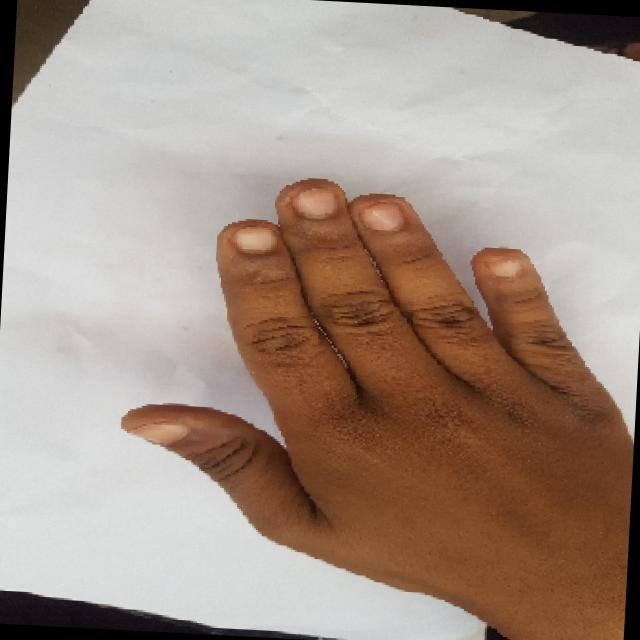Nail: (291, 187, 336, 219), (358, 201, 404, 231), (131, 422, 187, 444), (233, 226, 276, 253), (487, 258, 522, 277)
